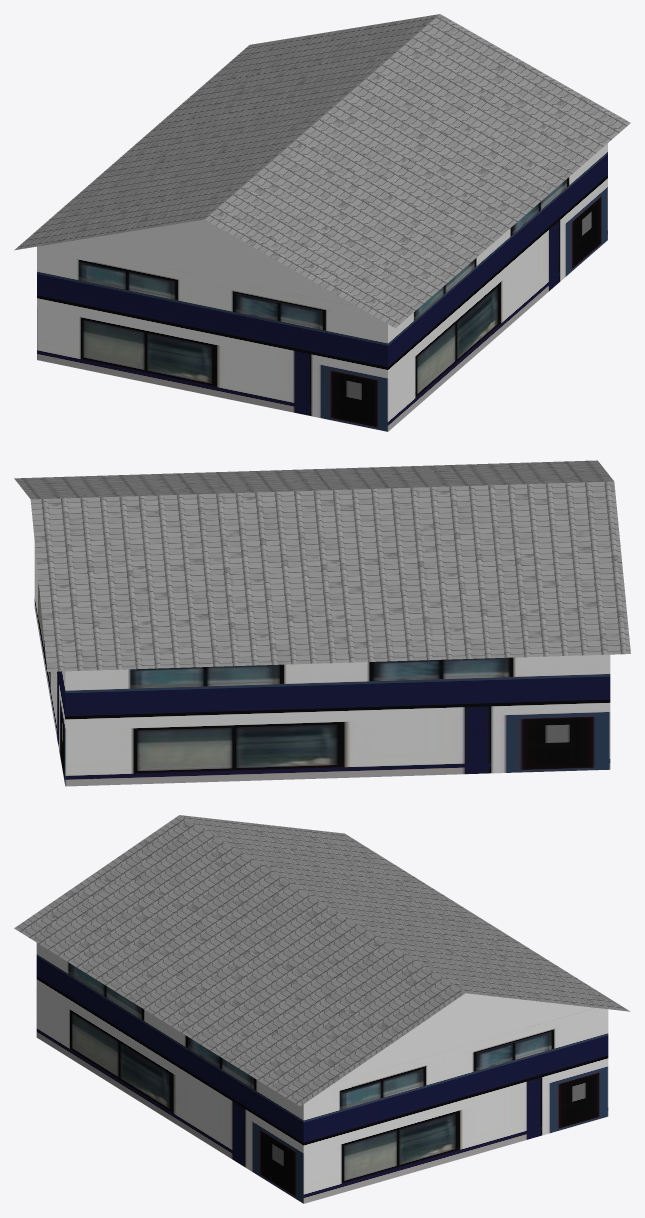
3 renders of one model, top to bottom at view 1: azimuth 30°, elevation 25°; view 2: azimuth 150°, elevation 25°; view 3: azimuth 270°, elevation 25°, orthographic. The views are drawn at different scales.
Parts seen in each view (by area): view 1: CityEngineMaterial_4_m, CityEngineMaterial_2_m, CityEngineMaterial_3_m; view 2: CityEngineMaterial_4_m, CityEngineMaterial_2_m; view 3: CityEngineMaterial_4_m, CityEngineMaterial_2_m, CityEngineMaterial_3_m.
Boxes of the visible parts, x1,y1,x2,y2 form: CityEngineMaterial_4_m: [14, 14, 630, 328]; CityEngineMaterial_2_m: [37, 143, 607, 431]; CityEngineMaterial_3_m: [52, 219, 356, 306]; CityEngineMaterial_4_m: [14, 460, 630, 671]; CityEngineMaterial_2_m: [34, 543, 610, 786]; CityEngineMaterial_4_m: [14, 815, 630, 1106]; CityEngineMaterial_2_m: [36, 943, 608, 1203]; CityEngineMaterial_3_m: [336, 993, 595, 1082].
Size of the model in its own units: 38.12 by 11.26 by 36.4.
